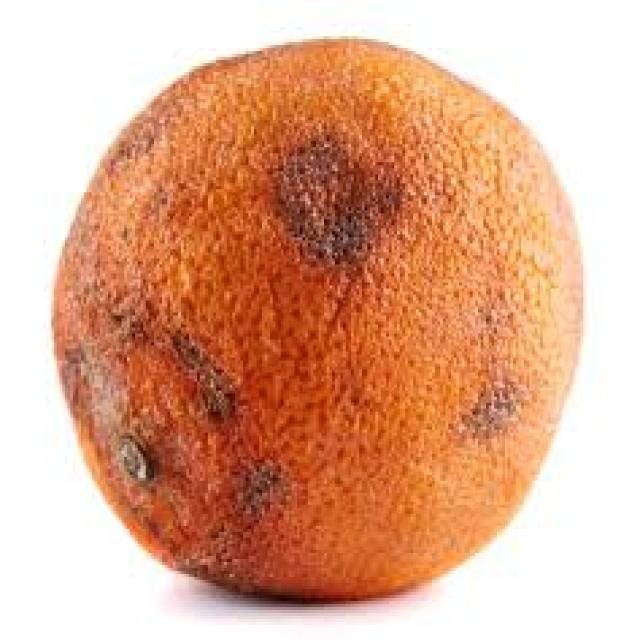Orange: (54, 59, 588, 597)
